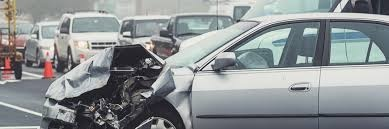Smashed: (40, 43, 194, 129)
